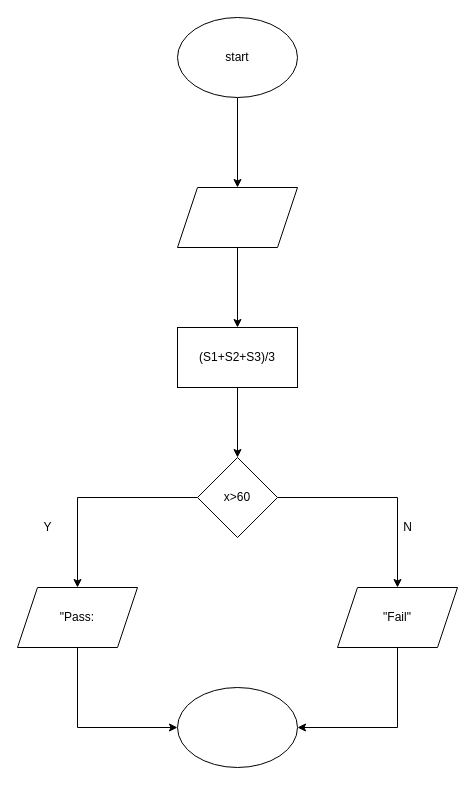
Image size: 475x785. Some labels were removed from this diagram. The shapes that lost their labels are listed below. From the top down, each one's centre as x and y in pixels, then its label:
At (x=237, y=217): "S1,S2,S3".
At (x=237, y=727): "finish".
